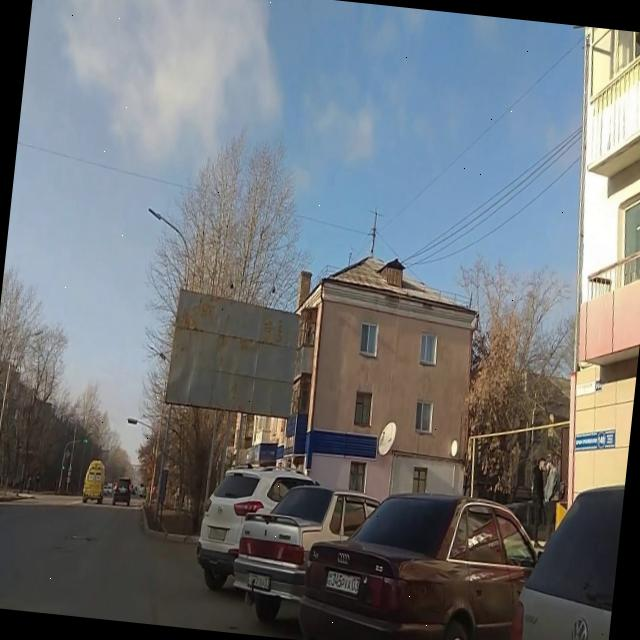License-plate: (325, 568, 362, 596), (247, 572, 271, 596), (208, 524, 227, 546)
